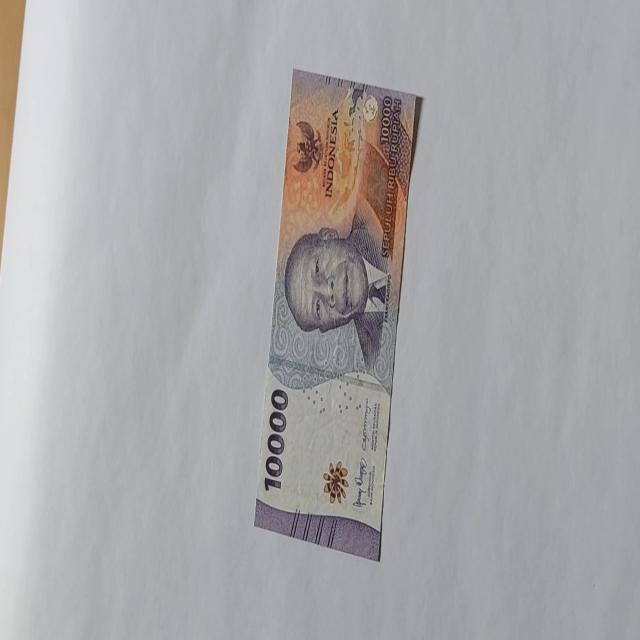sepuluh ribu rupiah: (252, 67, 422, 561), (281, 223, 389, 375)
